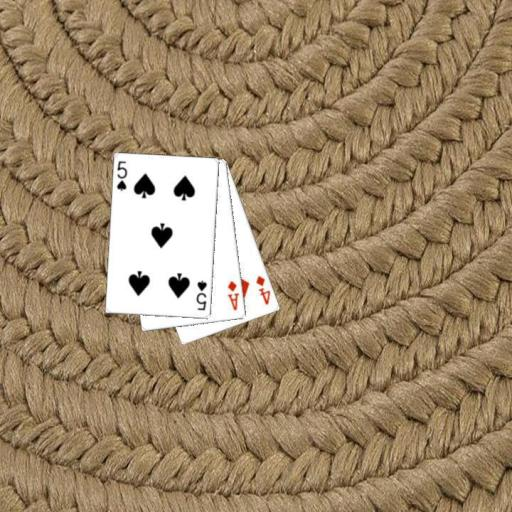card-corner: (254, 272, 272, 306), (225, 278, 240, 312), (114, 158, 128, 193), (194, 278, 208, 312)
